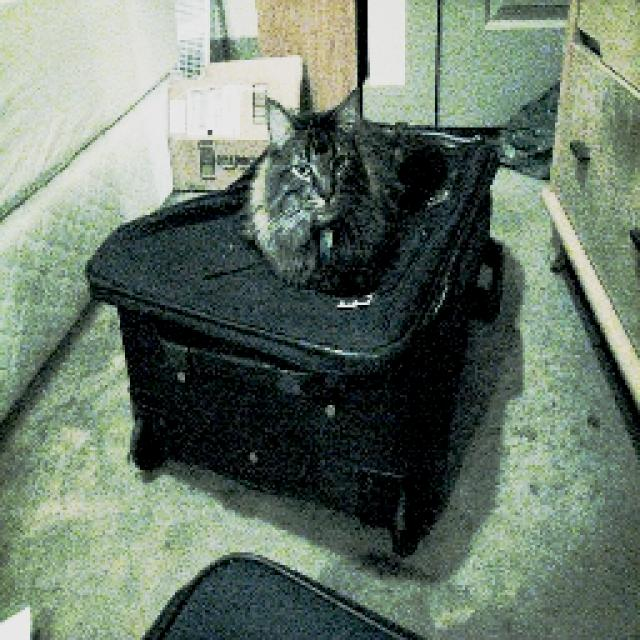cat: (226, 78, 450, 324)
